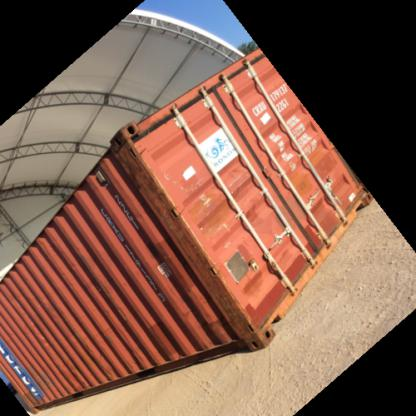Damage: (120, 137, 178, 225), (204, 255, 254, 335), (115, 302, 134, 338), (40, 322, 53, 348), (66, 252, 82, 271), (76, 364, 88, 388)
